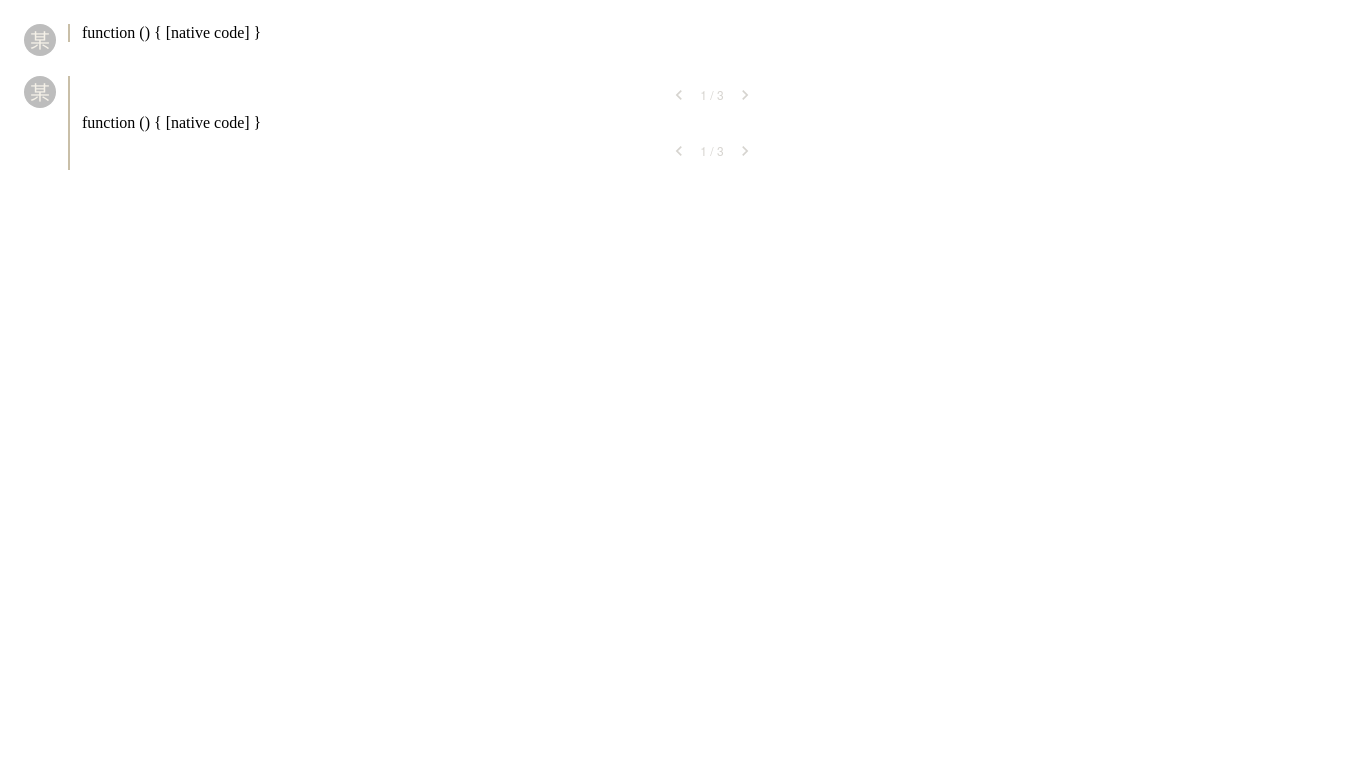
Scenario: 候選清單層只對第一則套開場白資料 › 🔴 不是第一則：長度一樣也不准套，而且真正的候選文字要留著
The image size is (1366, 768).
Click the button named "全部 3 個候選（訊息下方）". click: [712, 151]
box: [694, 139, 730, 163]
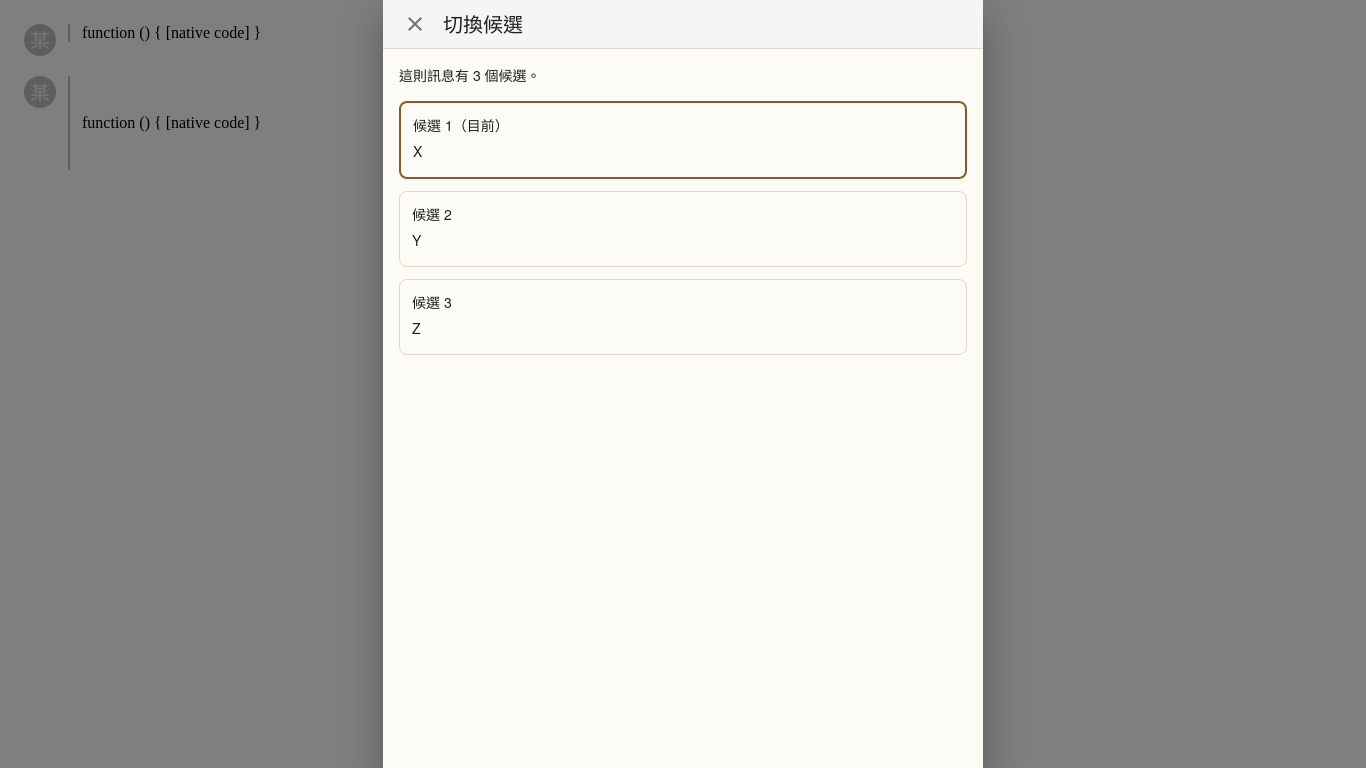
Expected: the heading "切換候選" is shown, [443, 9, 523, 38]
Expected: the text "X" is shown, [413, 141, 422, 161]
Expected: the text "Y" is shown, [412, 230, 421, 250]
